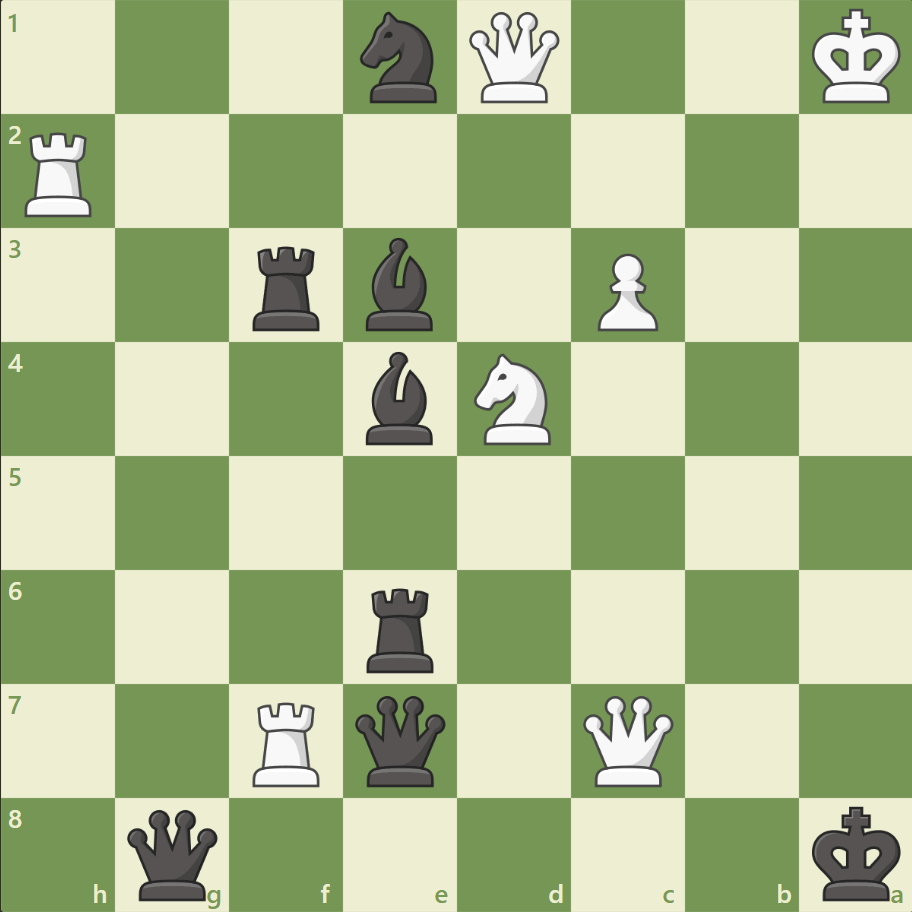K: (806, 4, 906, 112)
N: (465, 348, 562, 450)
P: (588, 246, 662, 337)
Q: (578, 690, 677, 789), (464, 9, 563, 108)
R: (246, 693, 329, 790), (19, 125, 102, 222)
b: (358, 233, 442, 336), (358, 347, 442, 449)
k: (806, 798, 906, 906)
n: (351, 7, 449, 110)
q: (124, 804, 223, 903), (351, 690, 450, 789)
r: (246, 239, 329, 336), (360, 579, 442, 676)
